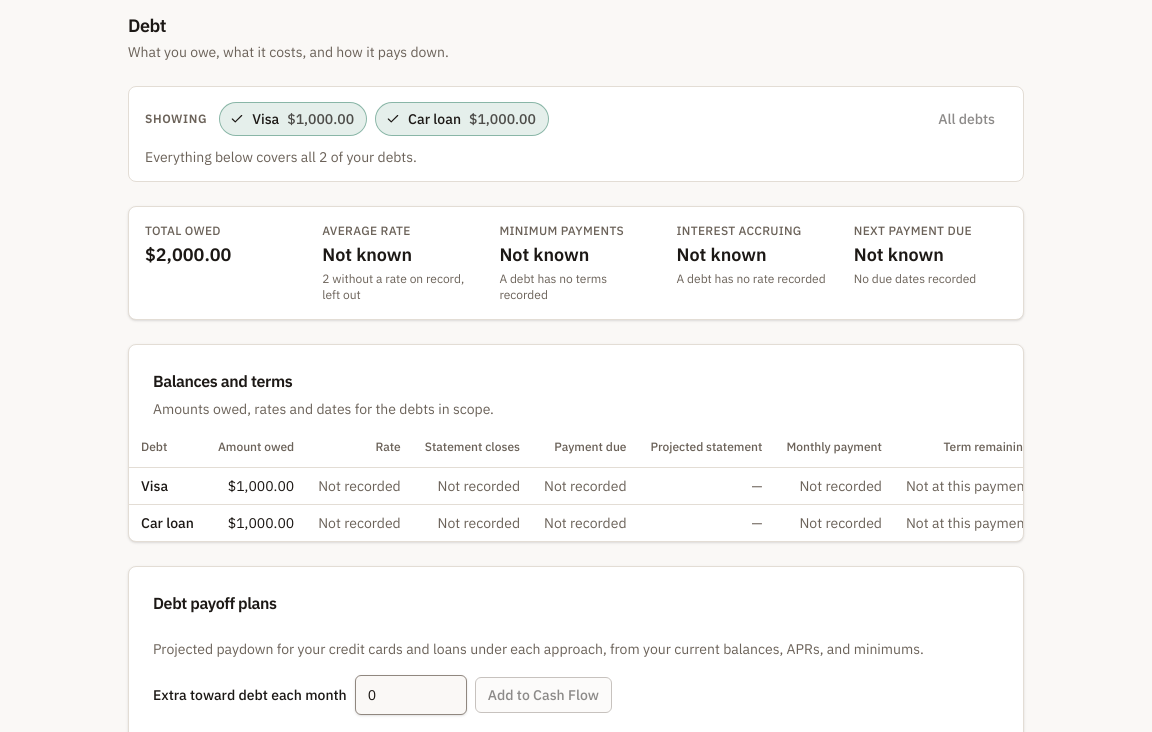
Scenario: the debt account selector (personal-cfo-4d8.27.9.3, ADR 0057 §1) › defaults to all debts, and scopes the page when one is unticked
Expected: the text "Everything below covers all 2 of your debts." is shown, [145,148,417,166]
Step 1. Click the button "Car loan $1,000.00" → (462, 119), box [375,102,549,136]
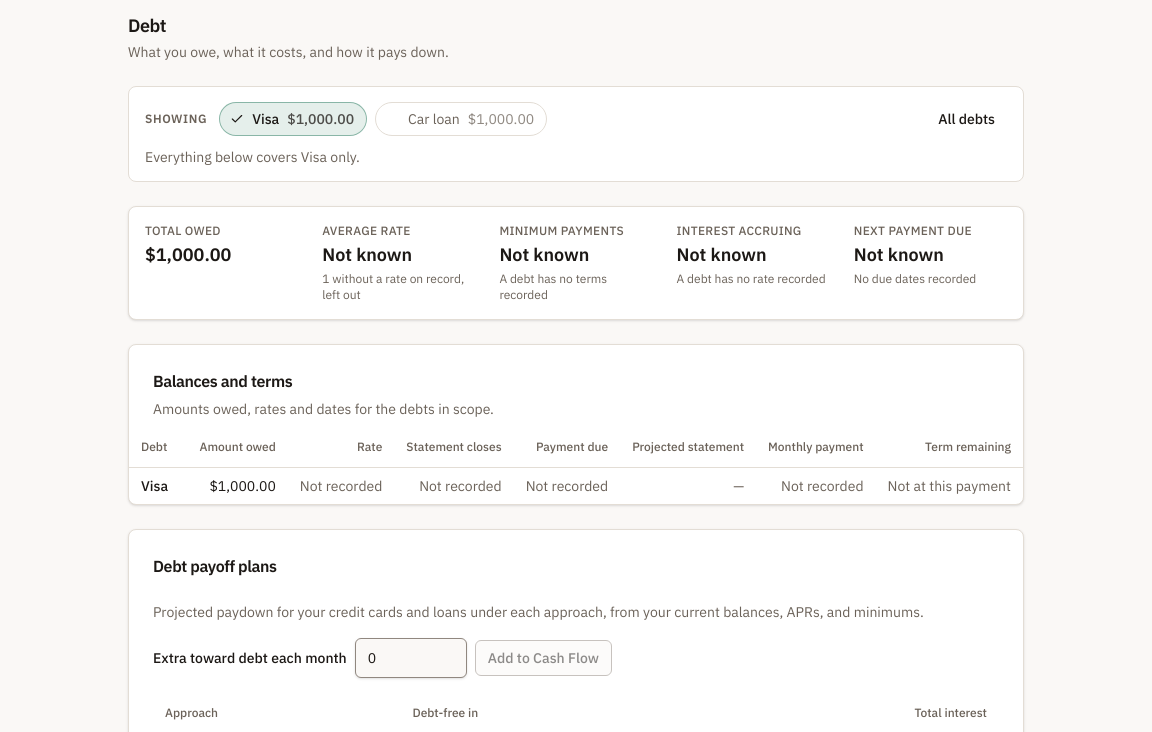
Result: the text "Everything below covers Visa only." is shown at [145,148,360,166]
